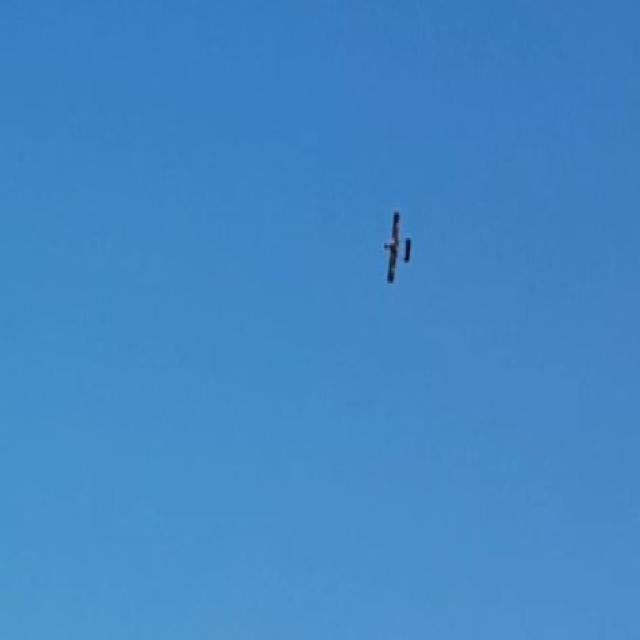iha: (383, 245, 411, 251)
